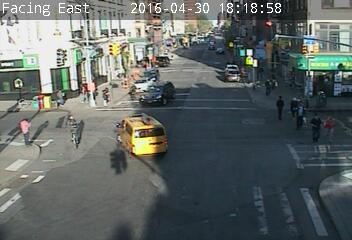neg: (98, 144, 121, 174), (141, 122, 161, 149), (14, 46, 34, 73), (20, 166, 39, 191), (100, 43, 119, 67), (44, 41, 62, 65), (3, 77, 21, 101), (67, 54, 85, 78), (298, 39, 315, 62), (36, 115, 53, 137), (326, 58, 342, 80), (323, 32, 339, 53), (82, 59, 98, 80), (70, 19, 85, 40), (207, 19, 222, 40), (138, 43, 153, 63), (71, 116, 85, 135), (102, 20, 116, 39), (223, 68, 237, 87), (162, 80, 175, 96), (176, 36, 188, 52), (327, 79, 339, 95), (207, 44, 217, 57)
pos: (317, 112, 340, 143), (305, 112, 327, 142), (290, 102, 312, 131), (15, 116, 36, 144), (271, 95, 291, 121), (77, 84, 92, 105), (126, 81, 141, 102), (100, 87, 115, 107), (261, 78, 275, 97), (256, 65, 270, 84), (53, 88, 66, 105)
